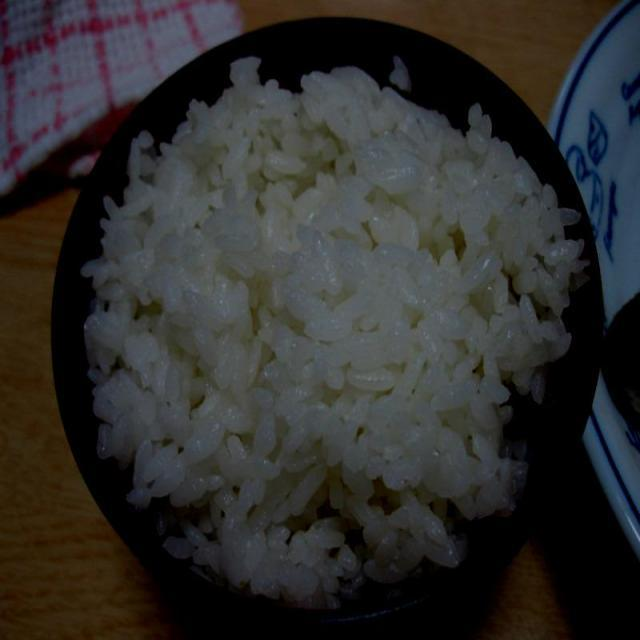rice: (79, 49, 592, 609)
